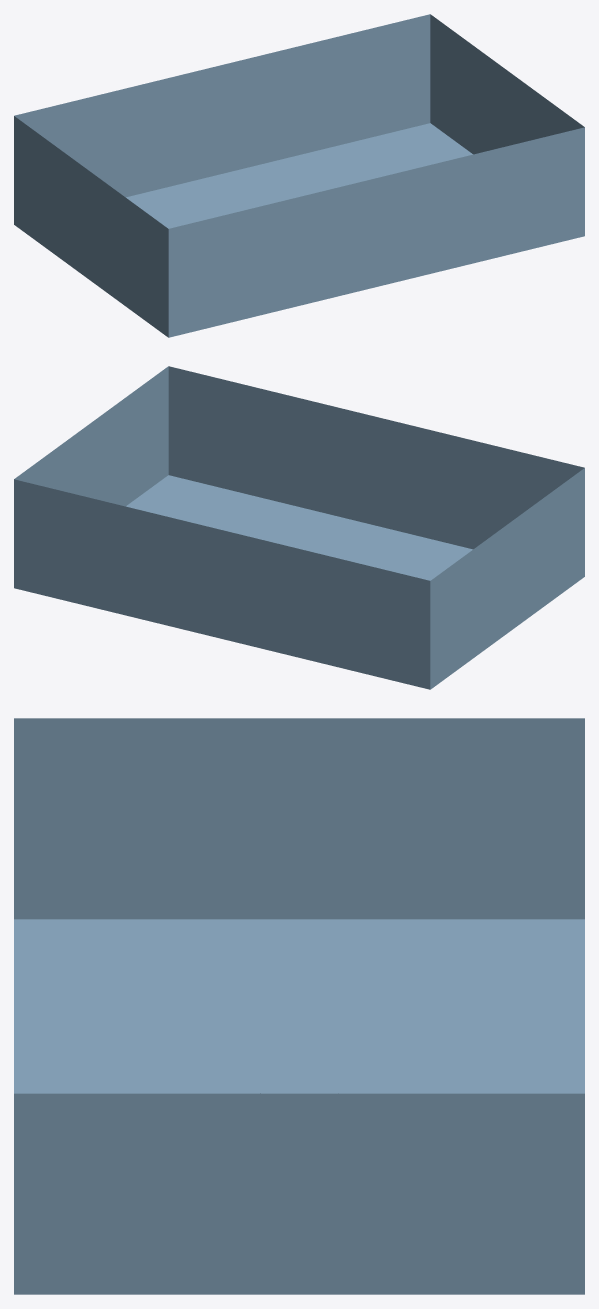
Rendered from basin_whole.glb.
The picture shows the model from 3 angles, top to bottom: view 1: azimuth 30°, elevation 25°; view 2: azimuth 150°, elevation 25°; view 3: azimuth 270°, elevation 25°; orthographic projection. The views are drawn at different scales.
Visible parts, largest first — view 1: basin_whole_0; view 2: basin_whole_0; view 3: basin_whole_0.
Part boxes in pixels (box(x1,y1,x2,y2)): basin_whole_0: box(14, 14, 584, 337); basin_whole_0: box(14, 366, 584, 689); basin_whole_0: box(14, 718, 584, 1294).
Bounding box in the file's own units: 0.56 × 0.14 × 0.36.
